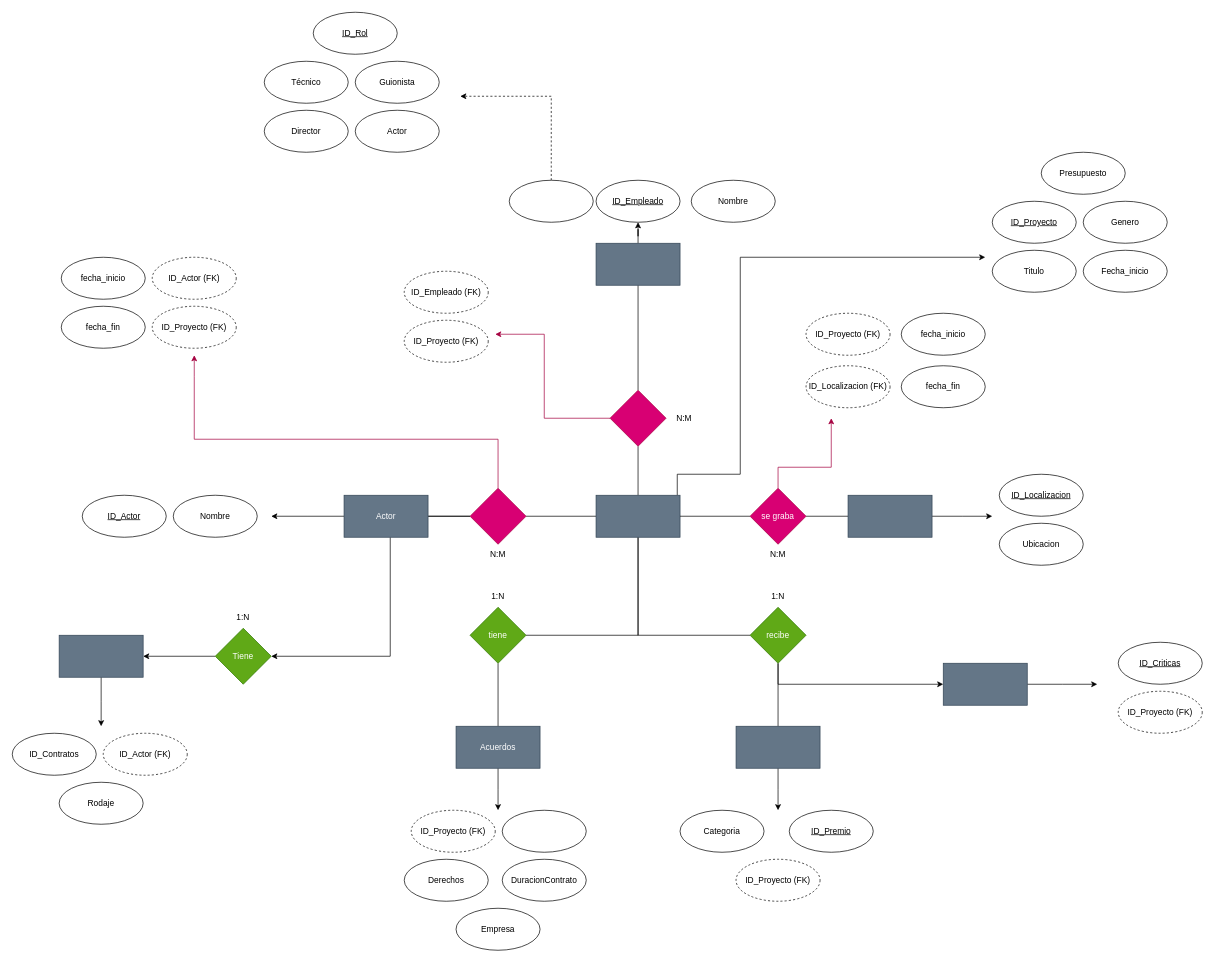
Image size: 1215x963. Some labels were removed from this diagram. Each missing label, with the centre of its shape:
Contratos: the point at 100,656
Críticas: the point at 985,684
Empleado: the point at 637,264
ID_Acuerdos: the point at 544,831
Localización: the point at 889,516
participa: the point at 637,418
Premio: the point at 777,747
Proyecto: the point at 637,516
Rol: the point at 551,201
trabaja: the point at 497,516
